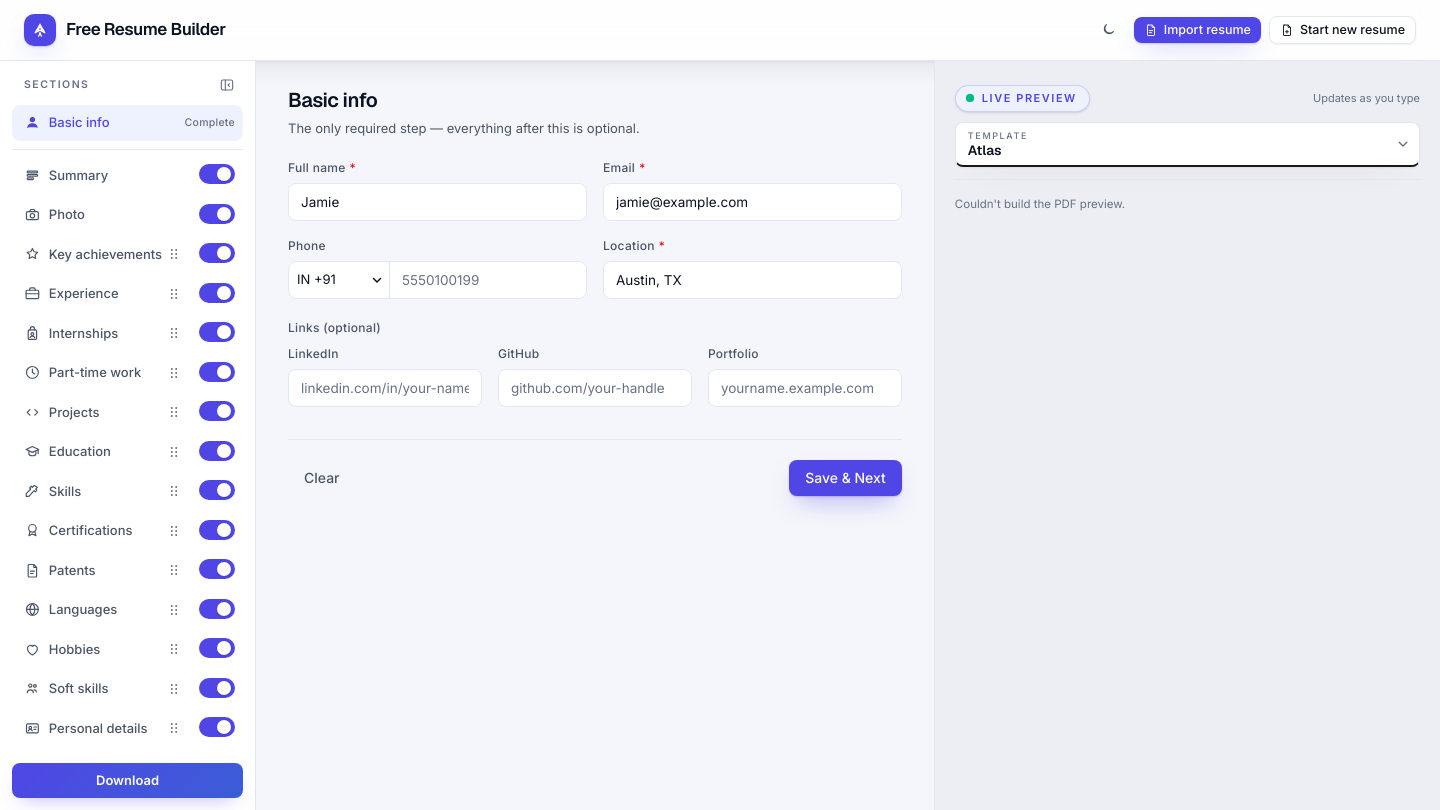
it: BuilderShell › fades the step in from the right on Skip
Expected: the heading "Basic info" is shown, [288, 87, 377, 113]
Click the button "Save & Next" at (845, 478), box [789, 460, 902, 496]
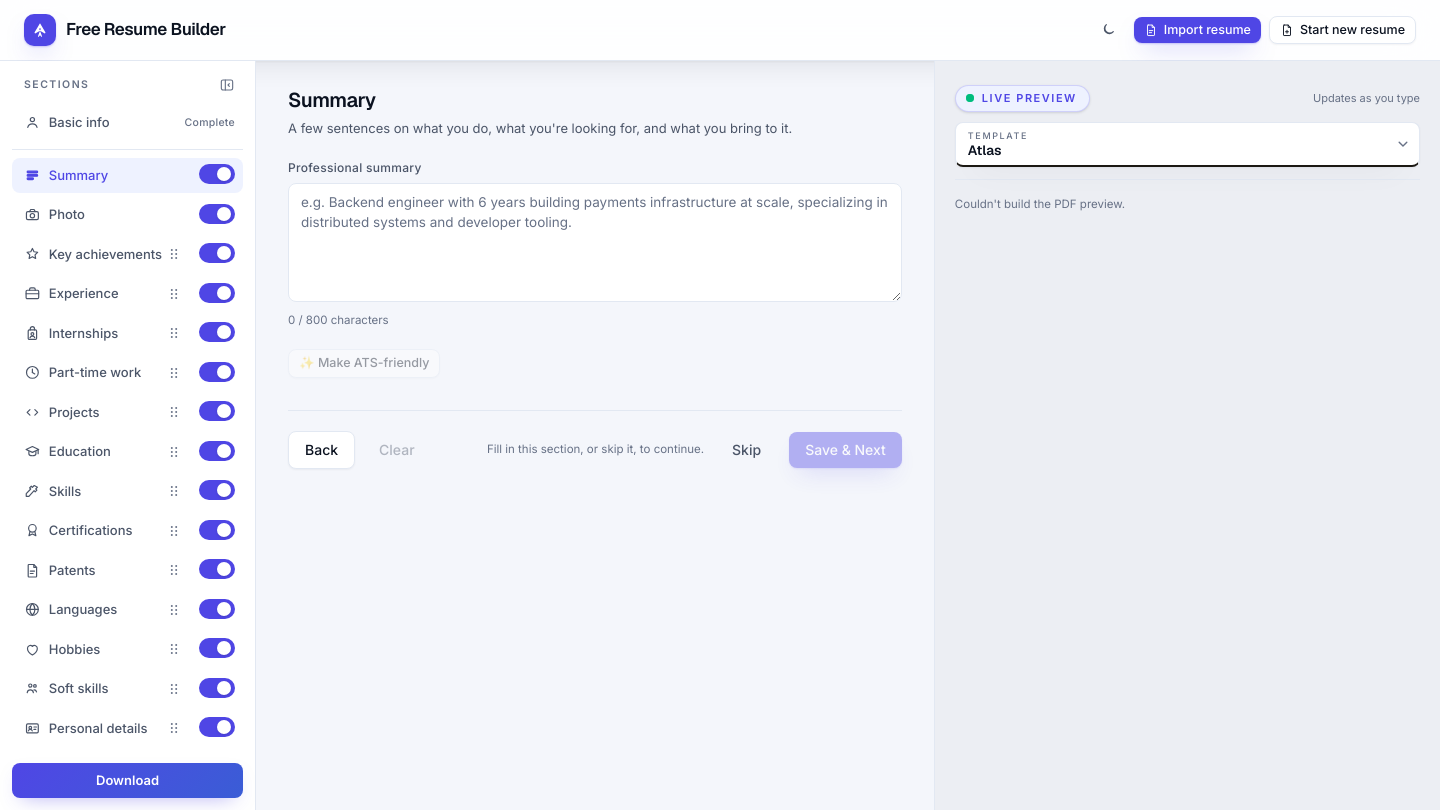
Now the heading "Summary" is shown, box [288, 87, 376, 113]
Click the button "Skip" at (747, 450), box [716, 432, 777, 468]
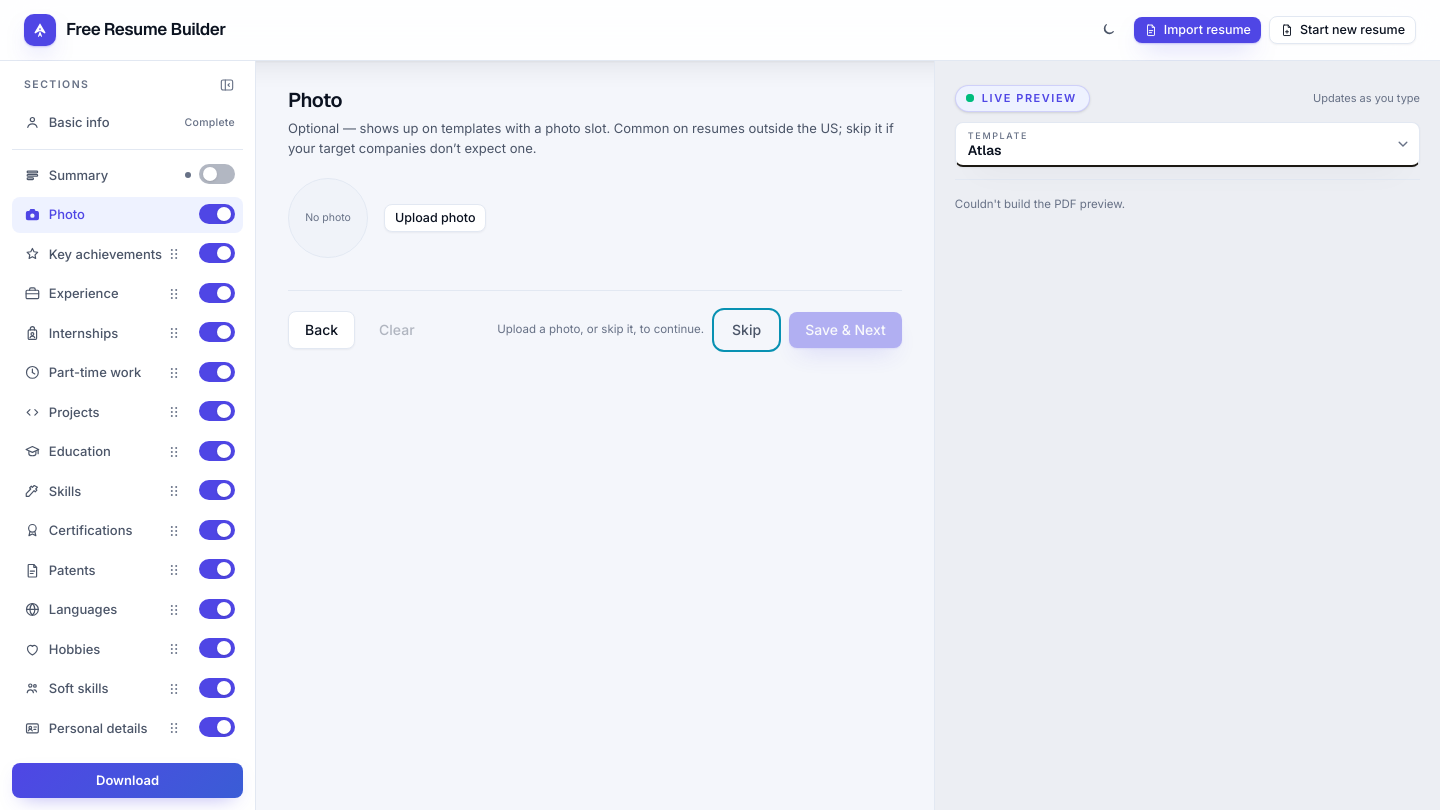
Now the element "Photo" is shown, box [288, 85, 902, 258]
